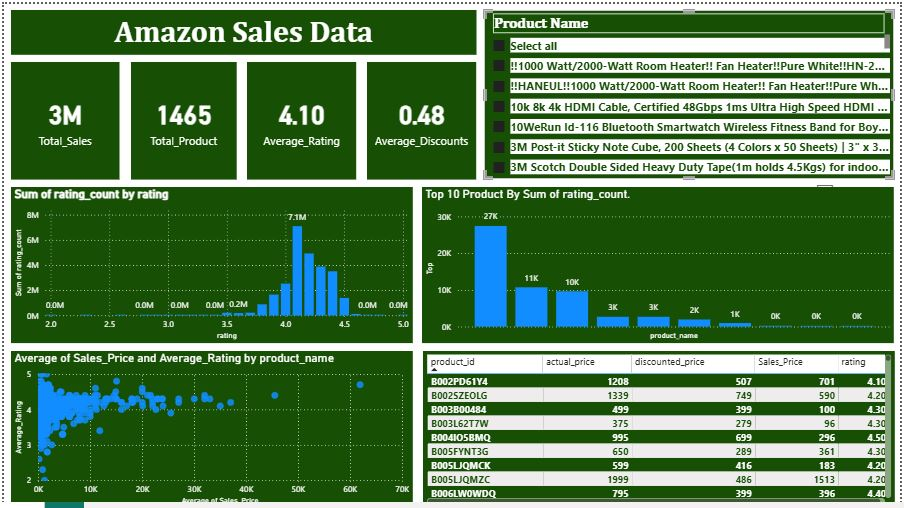

The dashboard page shown, as its layout file describes it:
{"tool":"powerbi","page":{"name":"Page 1","canvas":[1280,720],"ordinal":0},"visuals":[{"type":"textbox","box":[10,8.8,665,63.8],"z":0},{"type":"card","fields":{"Values":["amazon.Average_Discounts"]},"box":[518.8,82.5,156.2,167.5],"z":1000},{"type":"card","fields":{"Values":["amazon.Total_Product"]},"box":[181.2,82.5,151.2,167.5],"z":2000},{"type":"card","fields":{"Values":["amazon.Total_Sales"]},"box":[10,82.5,155,167.5],"z":3000},{"type":"card","fields":{"Values":["amazon.Average_Rating"]},"box":[347.5,82.5,156.2,167.5],"z":4000},{"type":"slicer","fields":{"Values":["amazon.product_name"]},"box":[686.2,8.8,585,241.2],"z":5000},{"type":"columnChart","fields":{"Category":["amazon.rating"],"Y":["Sum(amazon.rating_count)"]},"box":[10,261.2,573.8,222.5],"z":6000},{"type":"scatterChart","fields":{"Y":["amazon.Average_Rating"],"X":["Avg(amazon.Sales_Price)"],"Category":["amazon.product_name"]},"box":[10,496.2,573.8,223.8],"z":7000},{"type":"clusteredColumnChart","title":"Top 10 Product By Sum of rating_count.","fields":{"Y":["Sum(amazon.rating_count)"],"Category":["amazon.product_name"]},"box":[597.5,261.2,673.8,222.5],"z":8000},{"type":"tableEx","fields":{"Values":["amazon.product_id","amazon.actual_price","amazon.discounted_price","amazon.Sales_Price","amazon.rating"]},"box":[598,496,674,224],"z":8001}]}

Visuals, with their boxes in screenshot pixels (x1, y1, x2, y2), scaled from the page's 1280x720 canvas onto the 904x508 screenshot:
textbox: Rect(7, 6, 477, 51)
card - amazon.Average_Discounts: Rect(366, 58, 477, 176)
card - amazon.Total_Product: Rect(128, 58, 235, 176)
card - amazon.Total_Sales: Rect(7, 58, 117, 176)
card - amazon.Average_Rating: Rect(245, 58, 356, 176)
slicer - amazon.product_name: Rect(485, 6, 898, 176)
columnChart - amazon.rating x Sum(amazon.rating_count): Rect(7, 184, 412, 341)
scatterChart - amazon.Average_Rating x Avg(amazon.Sales_Price): Rect(7, 350, 412, 507)
"Top 10 Product By Sum of rating_count." clusteredColumnChart: Rect(422, 184, 898, 341)
tableEx - amazon.product_id x amazon.actual_price: Rect(422, 350, 898, 507)
